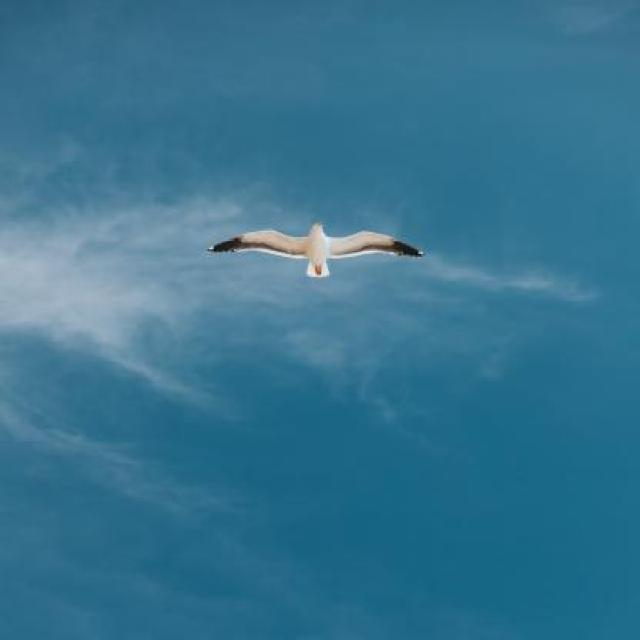bird: (209, 221, 425, 277)
